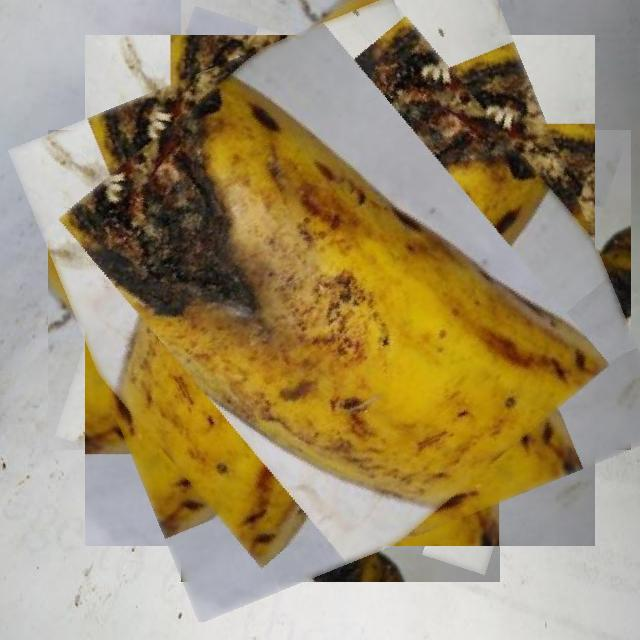Podre: (46, 0, 633, 584)
